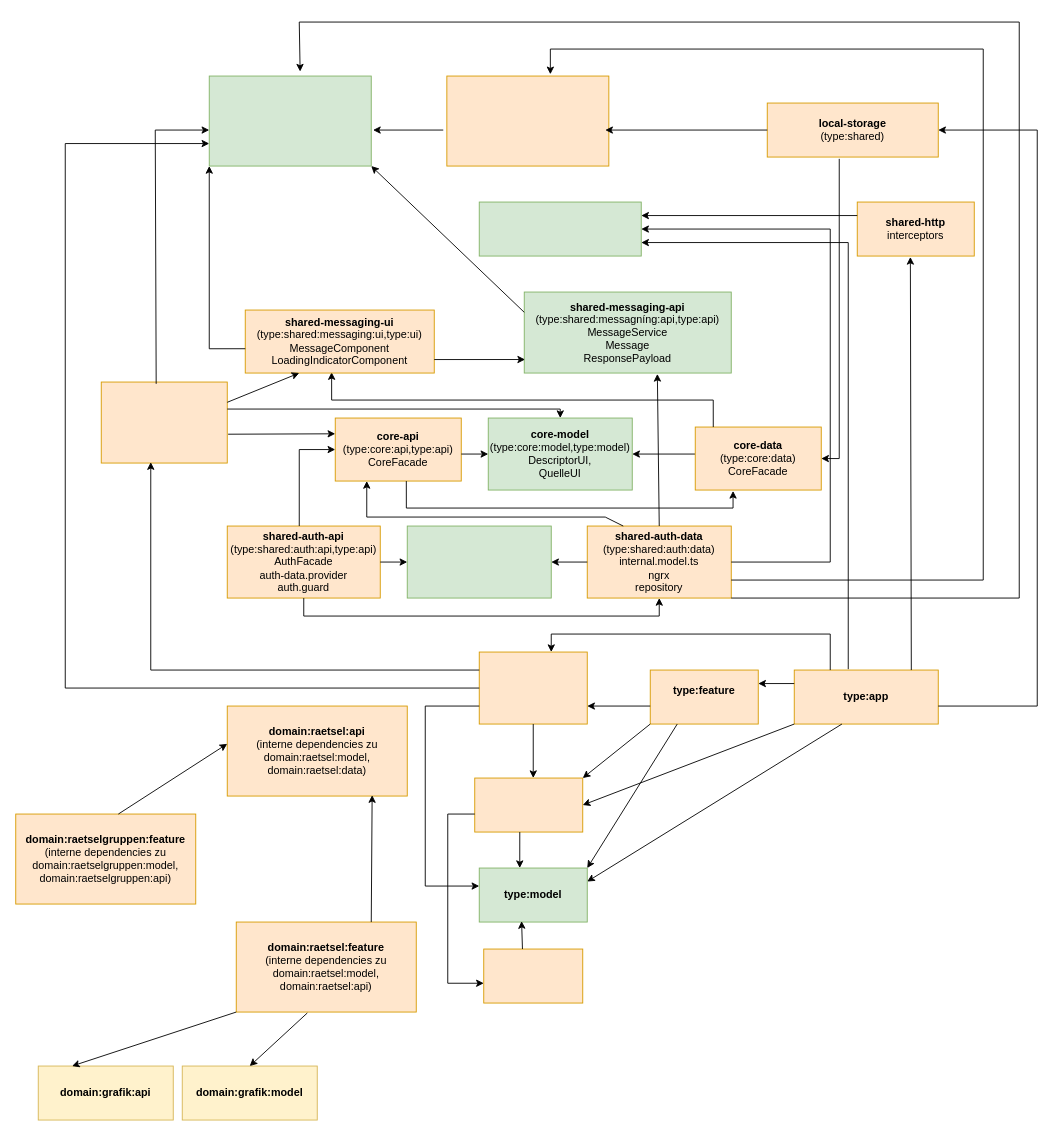
The diagram is 1060 pixels wide and 1136 high, and some of its shapes have lost their labels. Each missing label, with the centre of its shape:
"shared-auth-model (type:shared:auth:model, type:model) AuthResult, User" belongs at pixel 478 561.
"shared-config Configuration" belongs at pixel 559 228.
"shared-ngrx-utils filter-defined noop-action safe-concat-map ..." belongs at pixel 527 120.
"shared-util assert-defined is-defined safe-assign scroll-service" belongs at pixel 289 120.
"type:api" belongs at pixel 528 804.
"type:data" belongs at pixel 533 975.
"type:shared:ui" belongs at pixel 163 422.
"type:ui" belongs at pixel 532 687.
